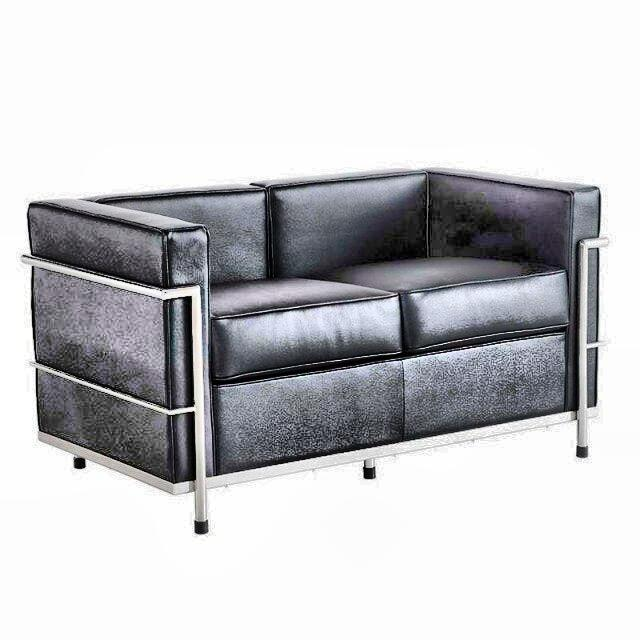sofa: (20, 164, 608, 534)
